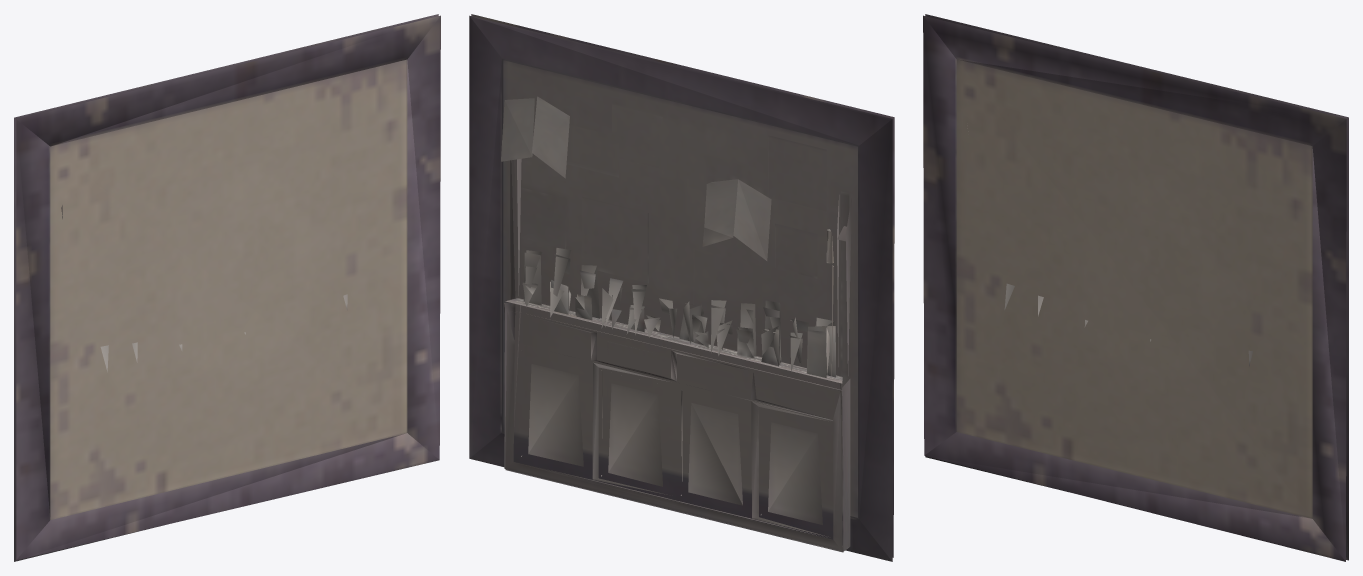
The model's file is PRP_SYMBOL_CARD_SET.fbx.
3 renders of one model, left to right at view 1: azimuth 30°, elevation 25°; view 2: azimuth 150°, elevation 25°; view 3: azimuth 330°, elevation 25°, orthographic.
Visible parts, largest first — view 1: PRP_SYMBOL_CARD_SET_Body; view 2: PRP_SYMBOL_CARD_SET_Body; view 3: PRP_SYMBOL_CARD_SET_Body.
Boxes of the visible parts, left/top/right/bottom form: PRP_SYMBOL_CARD_SET_Body: left=14, top=14, right=440, bottom=561; PRP_SYMBOL_CARD_SET_Body: left=469, top=14, right=894, bottom=561; PRP_SYMBOL_CARD_SET_Body: left=923, top=14, right=1348, bottom=561.
Size of the model in its own units: 11.92 by 11.92 by 0.9419.
Materials: 1 (1 with a texture image).
